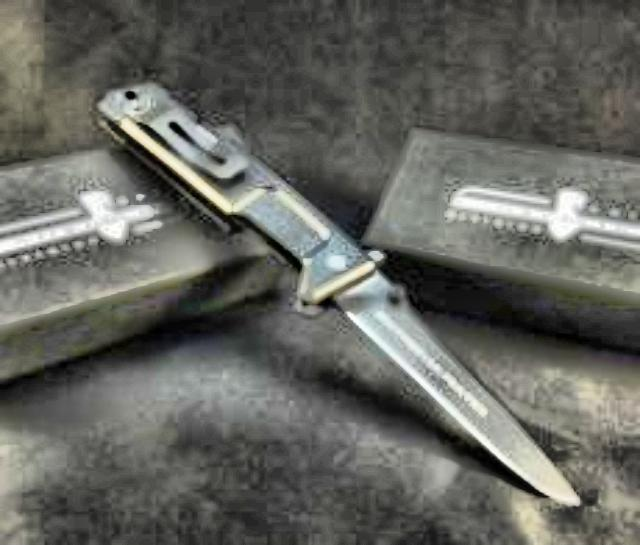knife: (323, 262, 584, 506)
